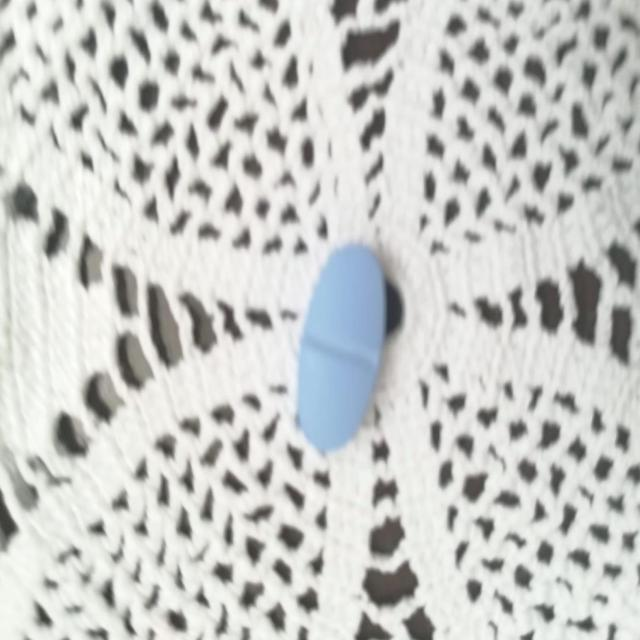pill: (294, 240, 392, 452)
